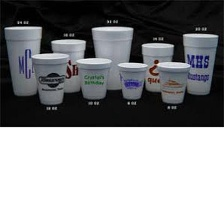paper_cup: (1, 21, 46, 99), (88, 22, 136, 94), (179, 29, 220, 98), (28, 48, 72, 109), (48, 34, 88, 96), (138, 39, 177, 95), (72, 54, 115, 102), (154, 59, 193, 105), (115, 58, 150, 102)
